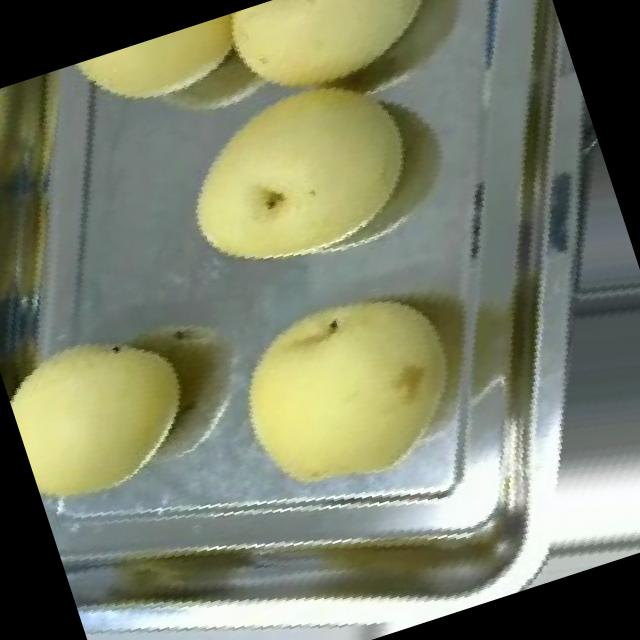Fruit: (130, 18, 469, 328), (183, 235, 512, 546), (0, 290, 232, 533), (195, 0, 501, 147), (45, 2, 290, 155)
